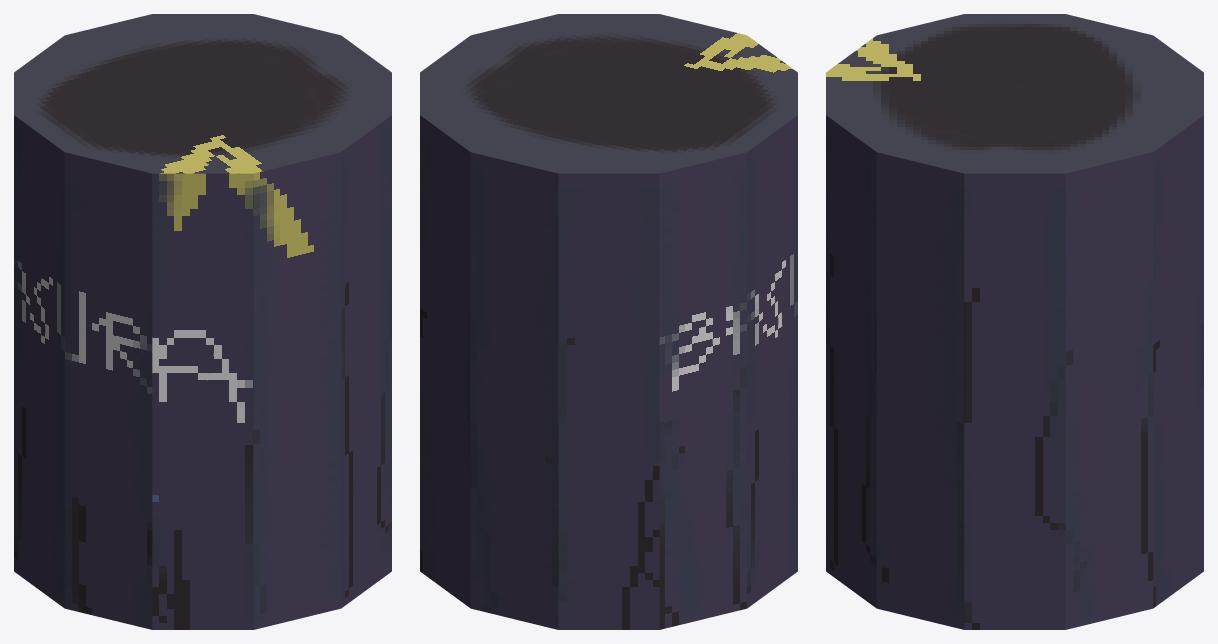
The model's file is Trash bin.gltf.
3 renders of one model, left to right at view 1: azimuth 30°, elevation 25°; view 2: azimuth 150°, elevation 25°; view 3: azimuth 270°, elevation 25°, orthographic.
Visible parts, largest first — view 1: cylinder; view 2: cylinder; view 3: cylinder.
Part boxes in pixels (box(x1,y1,x2,y2)): cylinder: box(14, 14, 391, 629); cylinder: box(420, 14, 797, 629); cylinder: box(826, 14, 1203, 629).
Bounding box in the file's own units: 0.375 × 0.5 × 0.375.
Materials: 2 (1 with a texture image).
